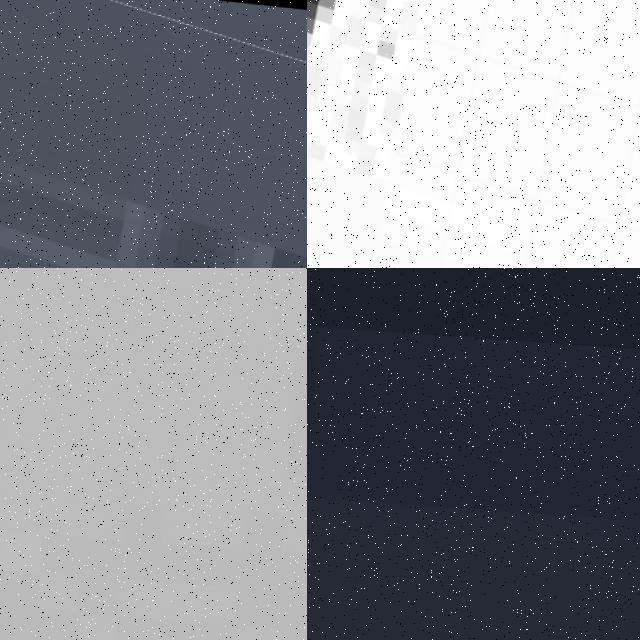0: (0, 0, 307, 268)
drone: (307, 0, 640, 268)
